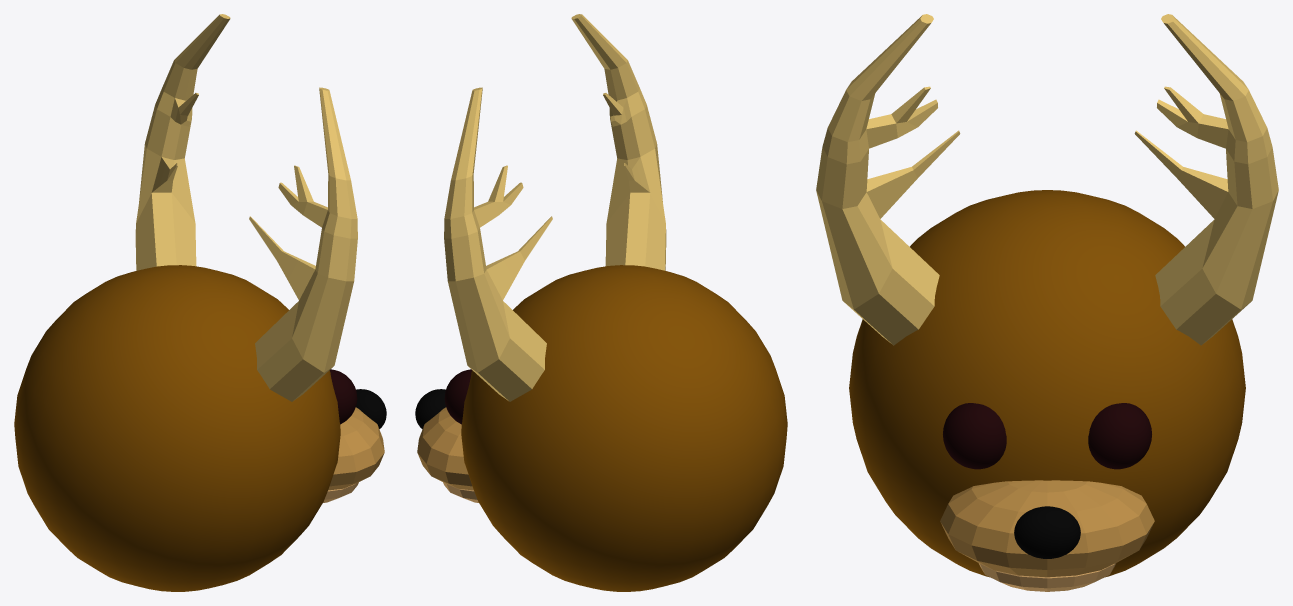
The model's file is Deer1.fbx.
The picture shows the model from 3 angles, left to right: view 1: azimuth 30°, elevation 25°; view 2: azimuth 150°, elevation 25°; view 3: azimuth 270°, elevation 25°; orthographic projection. The views are drawn at different scales.
Parts seen in each view (by area): view 1: Sphere.151, Cube, Sphere, Sphere.003, Sphere.002; view 2: Sphere.151, Cube, Sphere, Sphere.003, Sphere.002; view 3: Sphere.151, Cube, Sphere, Sphere.003, Sphere.002, Sphere.001.
Boxes of the visible parts, x1,y1,x2,y2 form: Sphere.151: (14,265,340,591); Cube: (135,14,357,401); Sphere: (328,407,384,490); Sphere.003: (329,369,357,424); Sphere.002: (356,389,386,428); Sphere.151: (461,265,787,591); Cube: (444,14,666,401); Sphere: (417,407,473,490); Sphere.003: (444,369,472,424); Sphere.002: (415,389,445,428); Sphere.151: (849,190,1245,577); Cube: (816,14,1278,345); Sphere: (940,480,1154,577); Sphere.003: (943,403,1151,469); Sphere.002: (1014,506,1080,558); Sphere.001: (978,563,1116,591).
Size of the model in its own units: 232 by 322 by 222.
